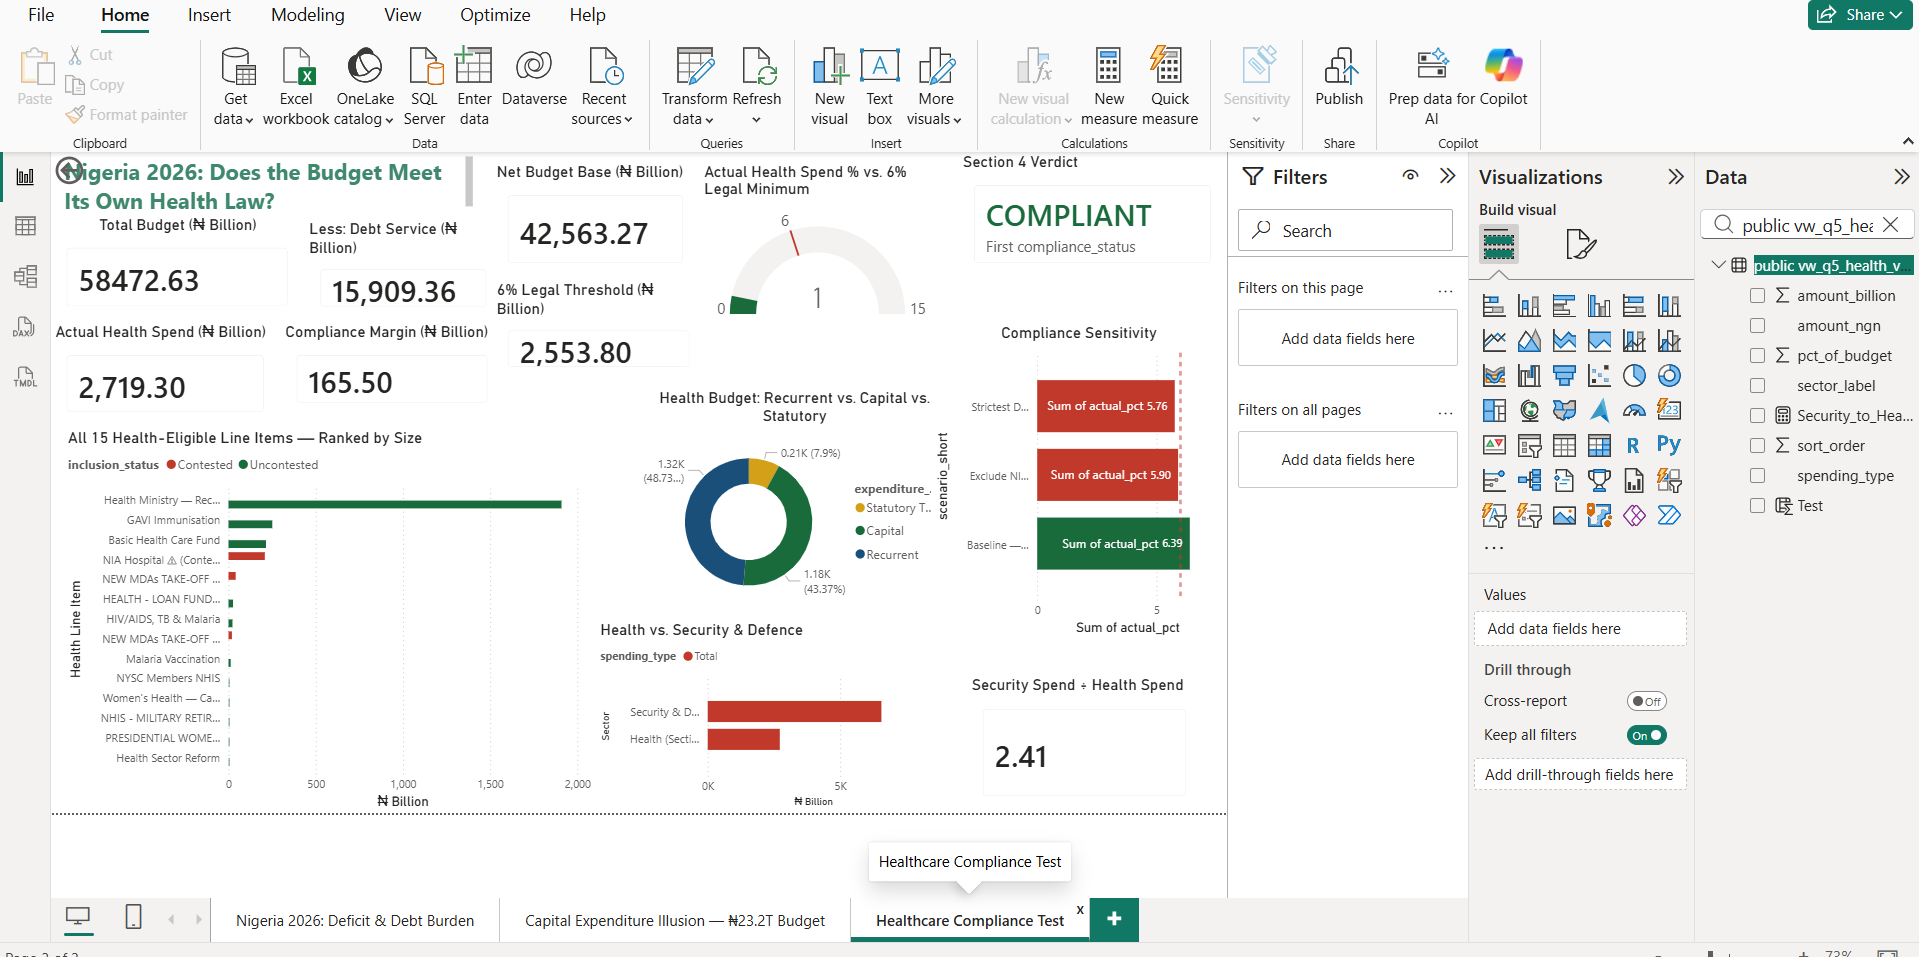

The dashboard page shown, as its layout file describes it:
{"tool":"powerbi","page":{"name":"Healthcare Compliance Test","canvas":[1280,720],"ordinal":2},"visuals":[{"type":"textbox","box":[9.6,0,454.2,68.6],"z":0},{"type":"cardVisual","title":"Total Budget (₦ Billion)","fields":{"Data":["Sum(public vw_q5_compliance_test.total_budget_billion)"]},"box":[0,68.6,275.8,118],"z":1},{"type":"cardVisual","title":"Less: Debt Service (₦ Billion)","fields":{"Data":["Sum(public vw_q5_compliance_test.debt_service_billion)"]},"box":[275.8,72.7,215.4,113.9],"z":2},{"type":"cardVisual","title":"6% Legal Threshold (₦ Billion)","fields":{"Data":["Sum(public vw_q5_compliance_test.threshold_billion)"]},"box":[480.3,138.8,232.7,112.9],"z":3},{"type":"cardVisual","title":"Net Budget Base (₦ Billion)","fields":{"Data":["Sum(public vw_q5_compliance_test.net_budget_billion)"]},"box":[480.3,10.9,225.9,127.9],"z":4},{"type":"cardVisual","title":"Compliance Margin (₦ Billion)","fields":{"Data":["Sum(public vw_q5_compliance_test.margin_billion)"]},"box":[249.7,185.2,242.9,105.7],"z":5},{"type":"cardVisual","title":"Actual Health Spend (₦ Billion)","fields":{"Data":["Sum(public vw_q5_compliance_test.actual_health_billion)"]},"box":[0,185.2,249.7,115.3],"z":6},{"type":"cardVisual","title":"Section 4 Verdict","fields":{"Data":["Min(public vw_q5_compliance_test.compliance_status)"]},"box":[987.8,0,292.5,138.8],"z":7},{"type":"gauge","title":" Actual Health Spend % vs. 6% Legal Minimum","fields":{"Y":["CountNonNull(public vw_q5_compliance_test.actual_health_pct)"],"TargetValue":["Avg(public vw_q5_compliance_test.legal_minimum_pct)"]},"box":[706.1,10.9,265.3,175.5],"z":8},{"type":"clusteredBarChart","title":"All 15 Health-Eligible Line Items — Ranked by Size","fields":{"Y":["Sum(public vw_q5_health_line_items.amount_billion)"],"Series":["public vw_q5_health_line_items.inclusion_status"],"Category":["public vw_q5_health_line_items.health_item_label"]},"box":[13.6,300.7,579.6,419],"z":9},{"type":"donutChart","title":"Health Budget: Recurrent vs. Capital vs. Statutory","fields":{"Category":["public vw_q5_health_by_type.expenditure_type"],"Y":["Sum(public vw_q5_health_by_type.amount_billion)"]},"box":[639.5,257.1,340.1,253.1],"z":10},{"type":"clusteredBarChart","title":"Compliance Sensitivity ","fields":{"Y":["Sum(public vw_q5_sensitivity_scenarios.actual_pct)"],"Category":["public vw_q5_sensitivity_scenarios.scenario_short"]},"box":[957.8,186.4,322.5,344.2],"z":11},{"type":"clusteredBarChart","title":"Health vs. Security & Defence","fields":{"Category":["public vw_q5_health_vs_security.sector_label"],"Y":["Sum(public vw_q5_health_vs_security.amount_billion)"],"Series":["public vw_q5_health_vs_security.spending_type"]},"box":[593.2,510.2,364.6,208.2],"z":12},{"type":"actionButton","box":[0,0,100,40],"z":13},{"type":"cardVisual","title":"Security Spend ÷ Health Spend","fields":{"Data":["public vw_q5_health_vs_security.Security_to_Health_Ratio"]},"box":[997.3,570.1,255.8,148.3],"z":14}]}

Visuals, with their boxes on the page's 1280x720 design canvas (x1, y1, x2, y2). These are canvas units, not pixel positions in the 1919x957 screenshot, which may show the page scaled, cropped or inside an application window:
textbox: [10, 0, 464, 69]
"Total Budget (₦ Billion)" cardVisual: [0, 69, 276, 187]
"Less: Debt Service (₦ Billion)" cardVisual: [276, 73, 491, 187]
"6% Legal Threshold (₦ Billion)" cardVisual: [480, 139, 713, 252]
"Net Budget Base (₦ Billion)" cardVisual: [480, 11, 706, 139]
"Compliance Margin (₦ Billion)" cardVisual: [250, 185, 493, 291]
"Actual Health Spend (₦ Billion)" cardVisual: [0, 185, 250, 300]
"Section 4 Verdict" cardVisual: [988, 0, 1280, 139]
" Actual Health Spend % vs. 6% Legal Minimum" gauge: [706, 11, 971, 186]
"All 15 Health-Eligible Line Items — Ranked by Size" clusteredBarChart: [14, 301, 593, 720]
"Health Budget: Recurrent vs. Capital vs. Statutory" donutChart: [640, 257, 980, 510]
"Compliance Sensitivity " clusteredBarChart: [958, 186, 1280, 531]
"Health vs. Security & Defence" clusteredBarChart: [593, 510, 958, 718]
actionButton: [0, 0, 100, 40]
"Security Spend ÷ Health Spend" cardVisual: [997, 570, 1253, 718]
